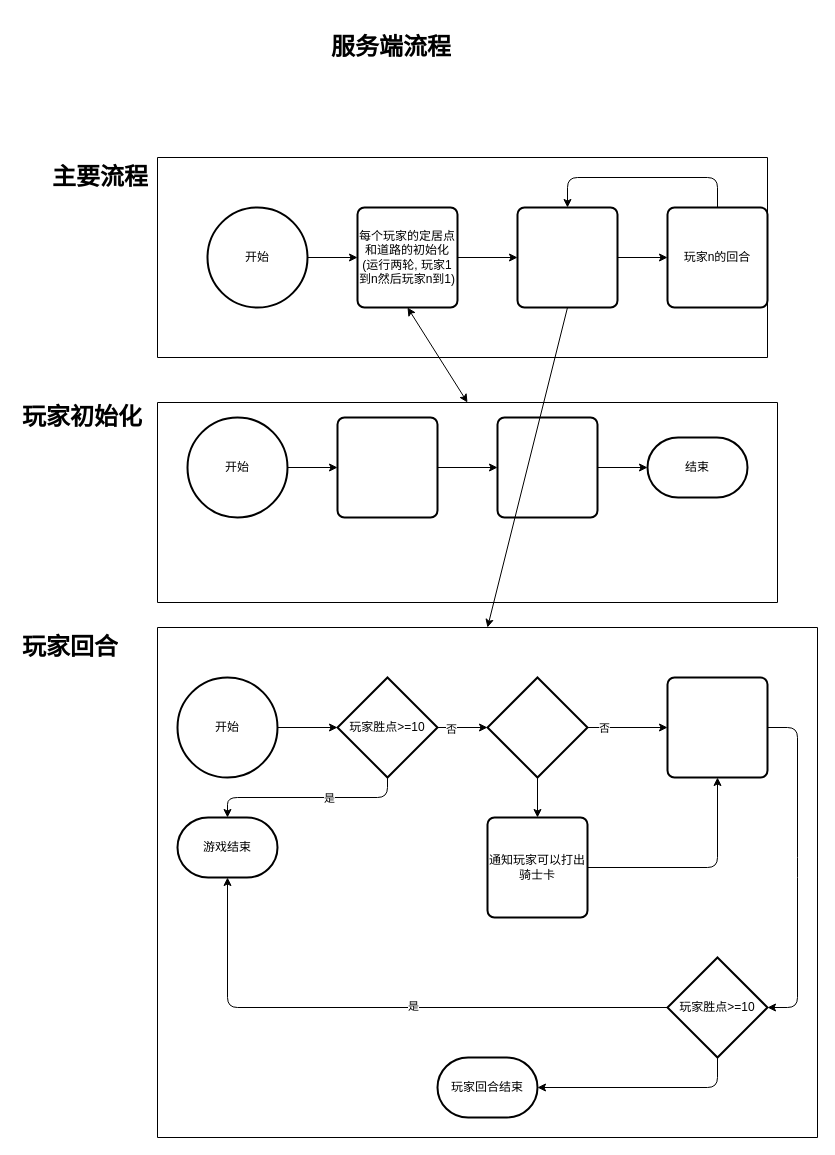
Image size: 835x1155. Some labels were removed from this diagram. The shapes that lost their labels are listed below. From the top down, each one's box as (x1, y1, x2, y2) in pixels, then its label:
(516, 206, 618, 308): 玩家1的回合
(336, 416, 438, 518): 通知玩家放置定居点
(496, 416, 598, 518): 通知玩家放置道路
(486, 676, 588, 778): 是否有骑士卡
(666, 676, 768, 778): 通知玩家自由行动 （交易， 建造）
